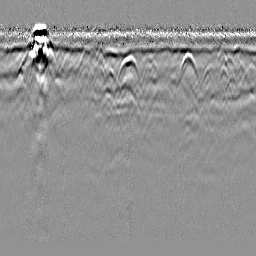cavity: (114, 53, 142, 87)
